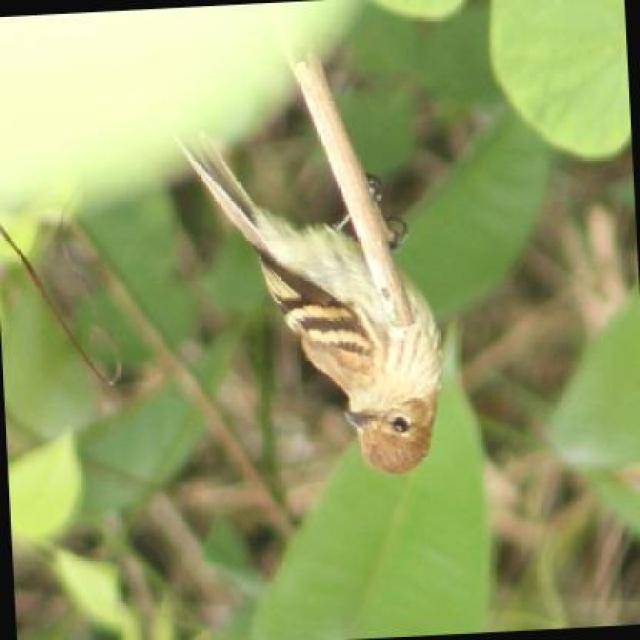Bird: (174, 109, 466, 470)
